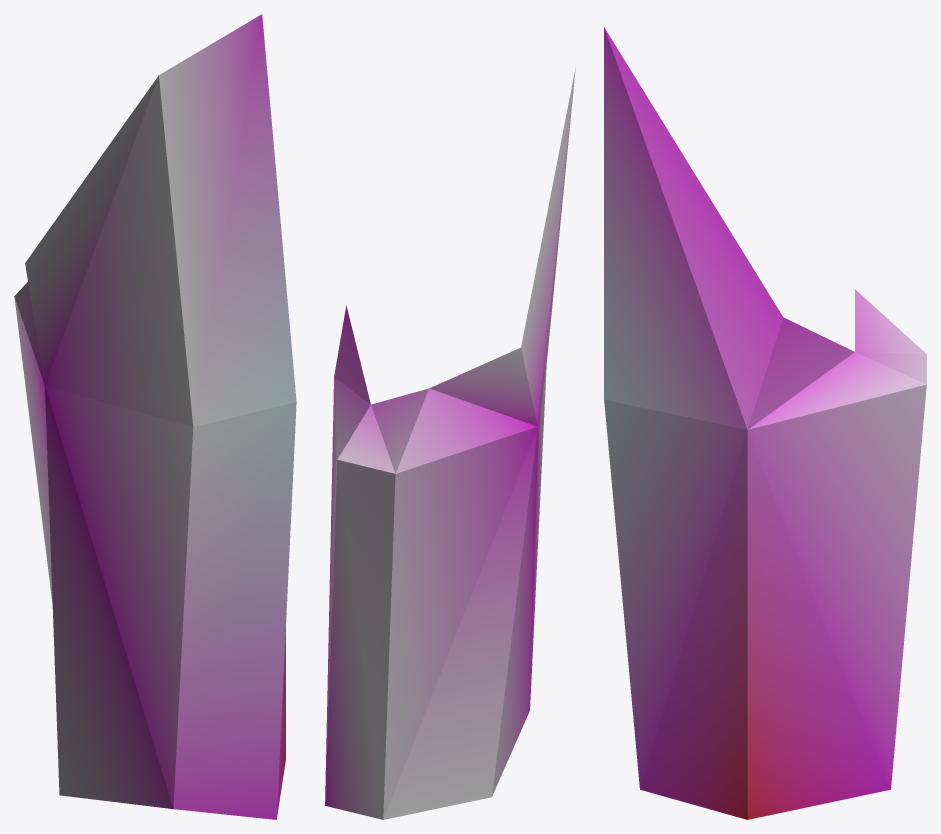
The picture shows the model from 3 angles, left to right: view 1: azimuth 30°, elevation 25°; view 2: azimuth 150°, elevation 25°; view 3: azimuth 270°, elevation 25°; orthographic projection. The views are drawn at different scales.
Parts seen in each view (by area): view 1: model_1188; view 2: model_1188; view 3: model_1188.
Part boxes in pixels (bbox=[...]): model_1188: bbox=[14, 14, 296, 819]; model_1188: bbox=[325, 68, 575, 819]; model_1188: bbox=[604, 27, 926, 819].
Bounding box in the file's own units: 7 × 23 × 9.
